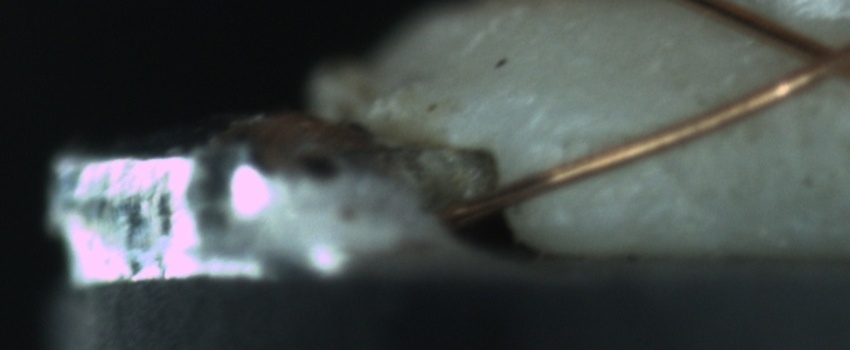CL: (773, 23, 847, 92)
